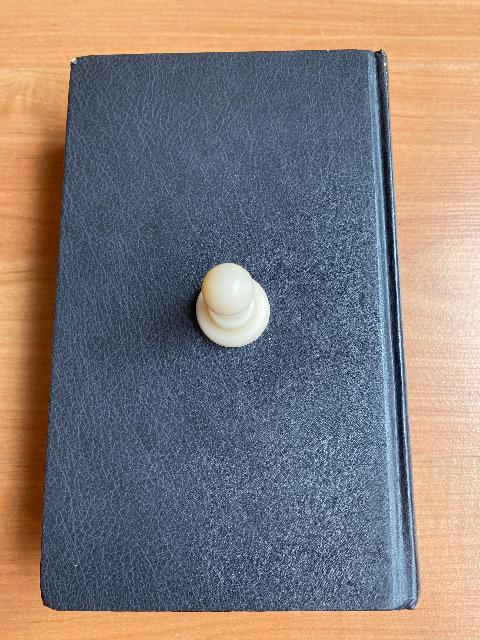white-pawn: (195, 262, 271, 348)
